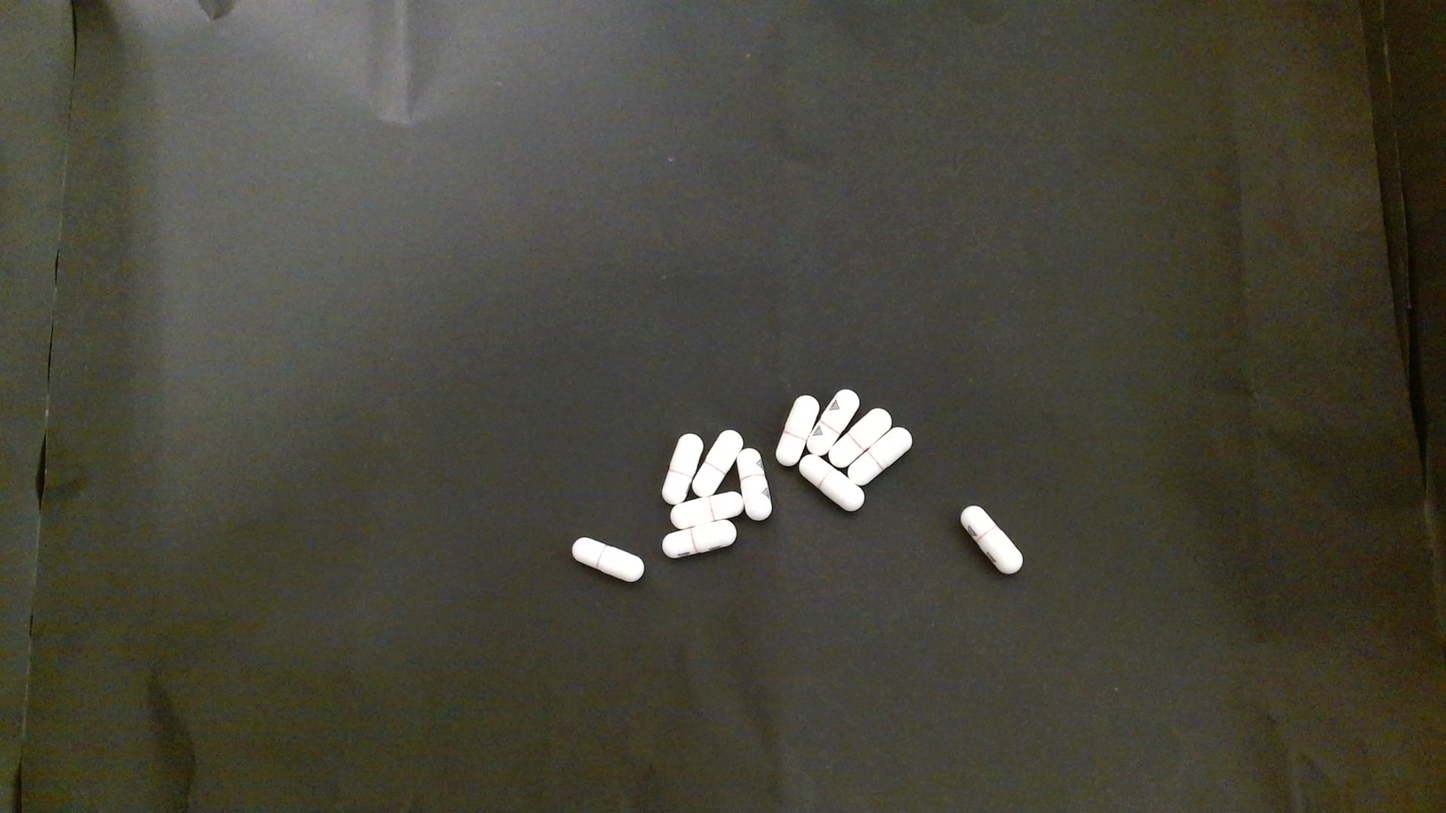Capsule: (959, 503, 1027, 578), (826, 406, 894, 470), (798, 453, 865, 512), (848, 428, 914, 487), (570, 535, 650, 583), (691, 430, 743, 498), (809, 389, 860, 458), (776, 395, 819, 466), (663, 434, 703, 505), (662, 519, 735, 556), (670, 491, 741, 528), (738, 449, 771, 520)
